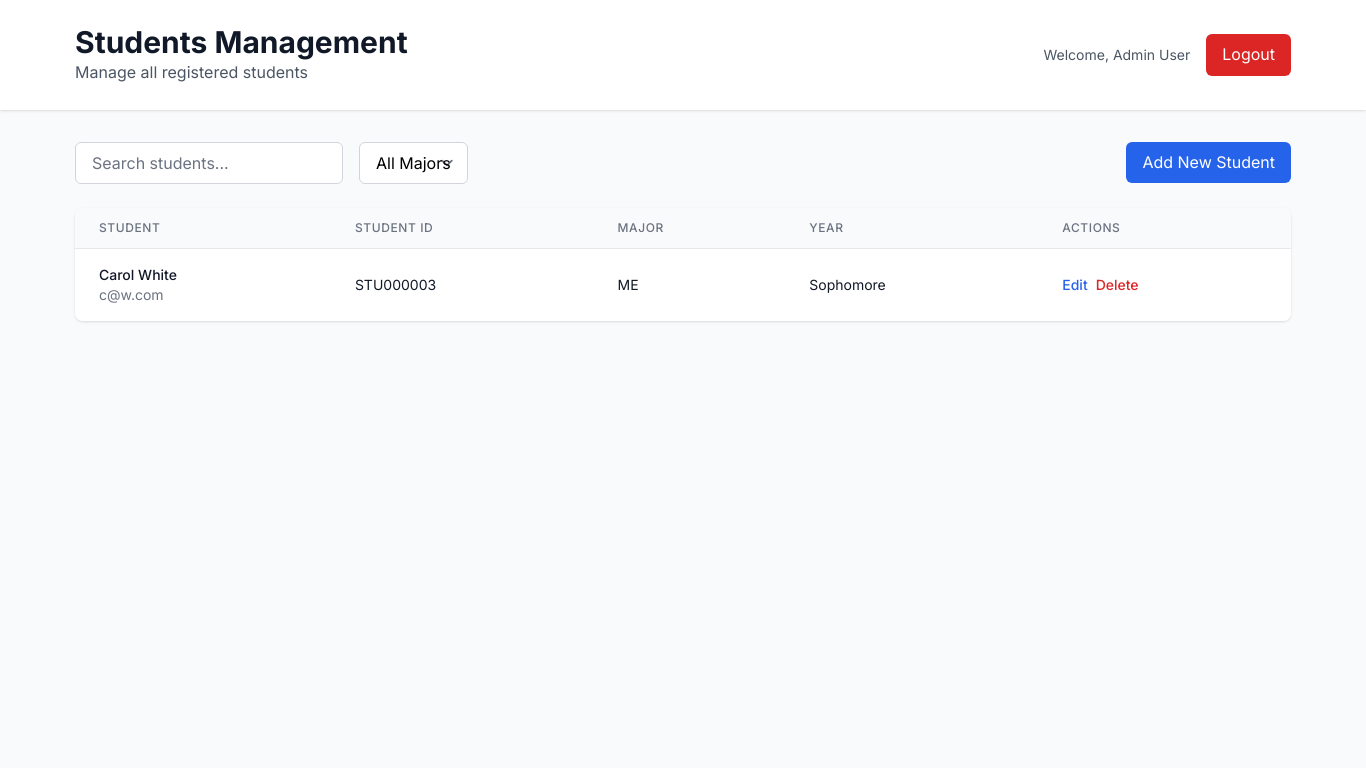
Scenario: PUT: updates a student when edit form is submitted
This screenshot has width=1366, height=768.
Step 1. Click the button "Edit" → (1075, 285), box left=1062, top=275, right=1088, bottom=295
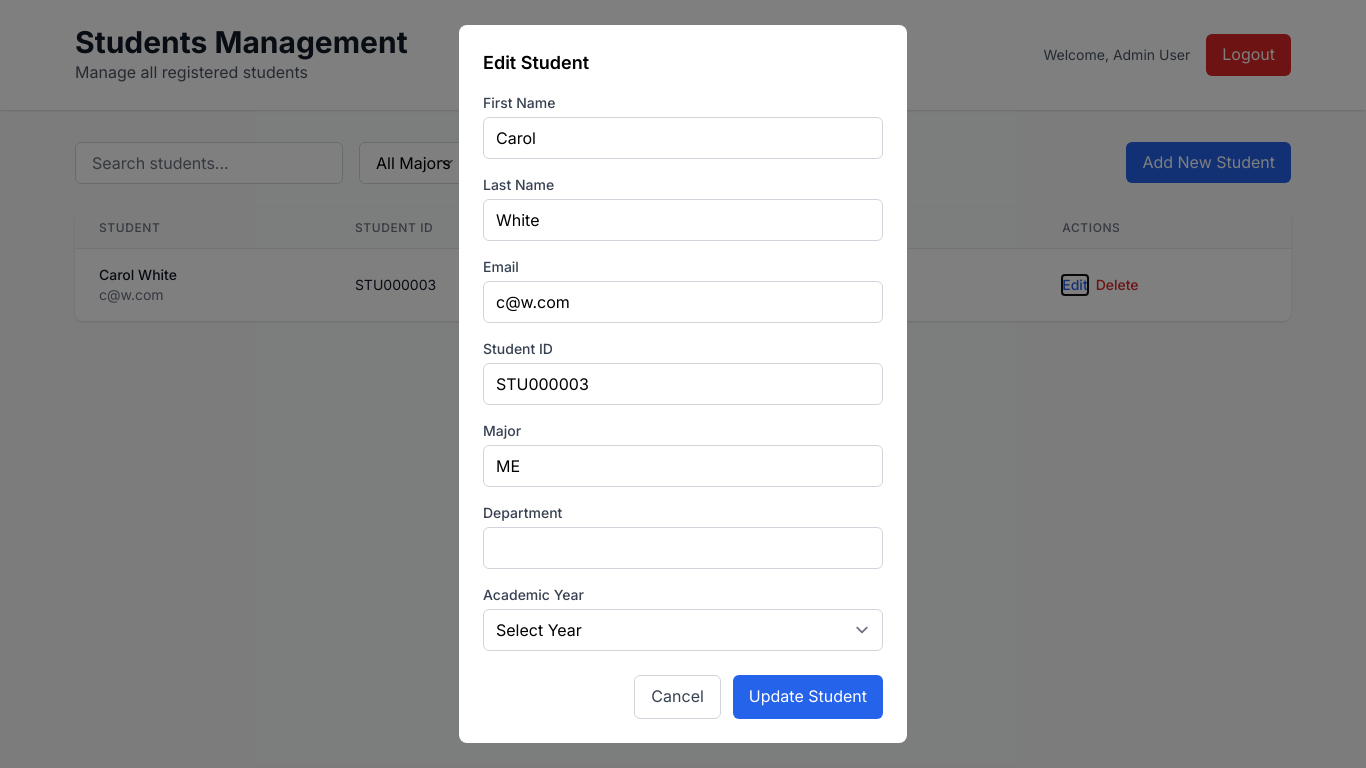
Change first name in edit modal (wait for input to appear)
Step 2. Replace the text in the field labelled "First Name" with "Caroline" → (683, 138), box left=483, top=117, right=883, bottom=159
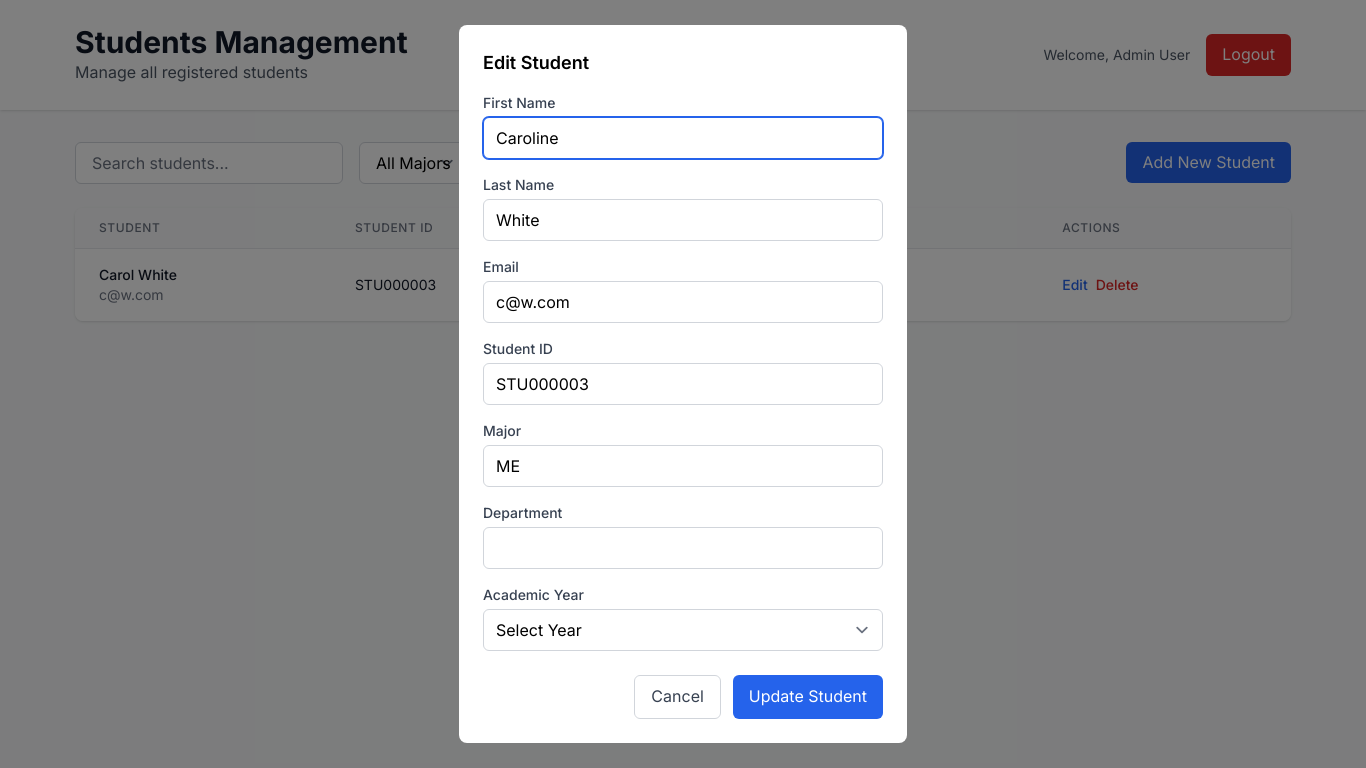
Step 3. Click the button "Update Student" → (808, 697), box left=733, top=675, right=883, bottom=719
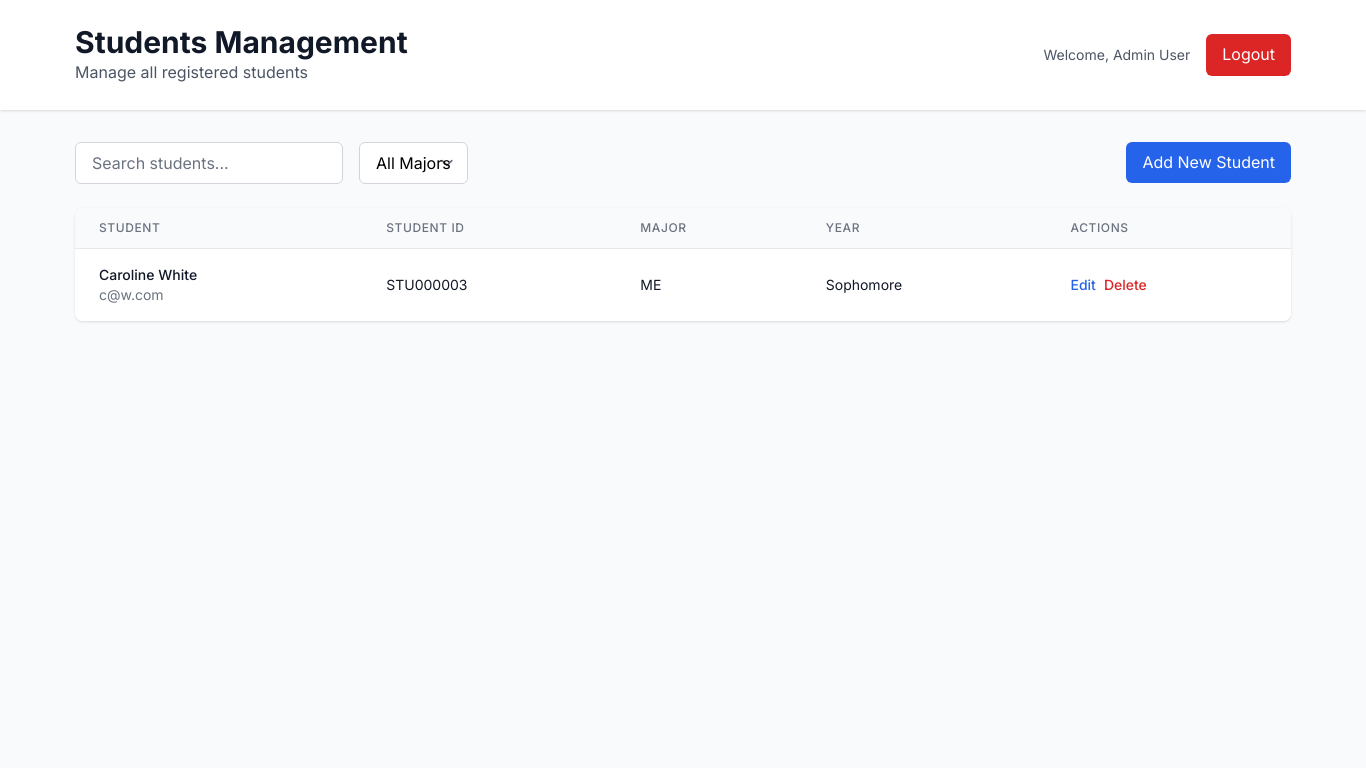
Now the text "Caroline White" is shown, box left=99, top=266, right=197, bottom=283
